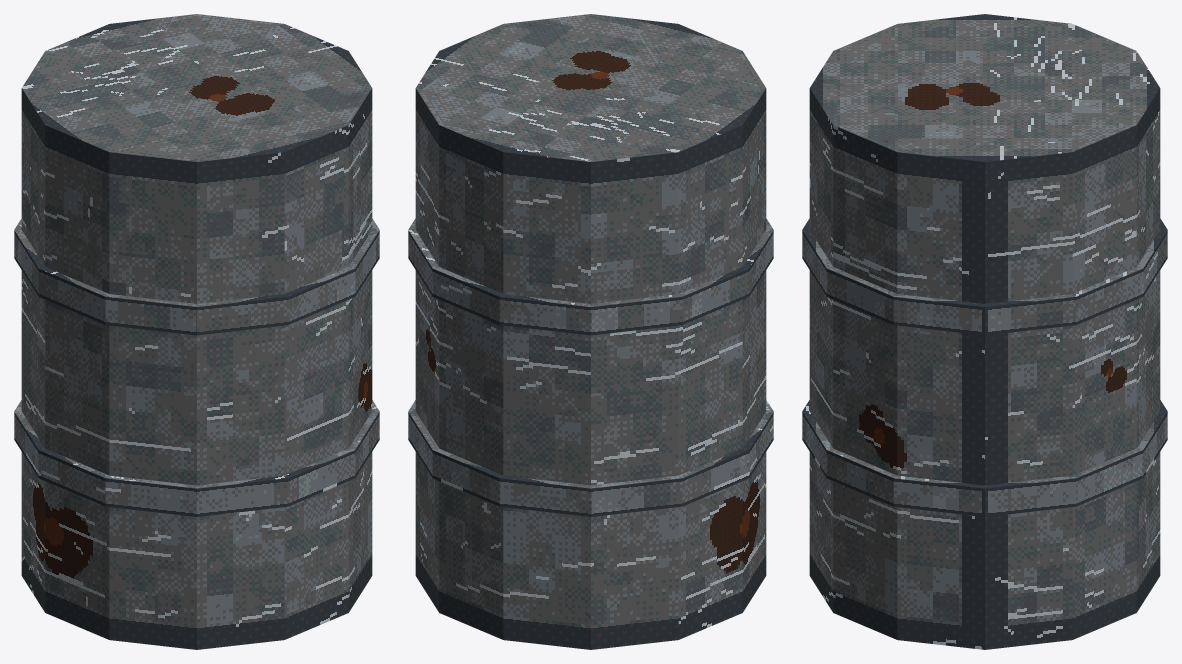
The model's file is SM_Barrel_Steel_01.glb.
3 views of the same model, side by side, from view 1: azimuth 30°, elevation 25°; view 2: azimuth 150°, elevation 25°; view 3: azimuth 270°, elevation 25° (orthographic).
Visible parts, largest first — view 1: SM_Barrel_Steel_01; view 2: SM_Barrel_Steel_01; view 3: SM_Barrel_Steel_01.
Boxes of the visible parts, x1=… form: SM_Barrel_Steel_01: x1=14, y1=14, x2=379, y2=649; SM_Barrel_Steel_01: x1=408, y1=14, x2=773, y2=649; SM_Barrel_Steel_01: x1=802, y1=14, x2=1167, y2=649.
Bounding box in the file's own units: 0.584 × 0.86 × 0.584.
Materials: 1 (1 with a texture image).
